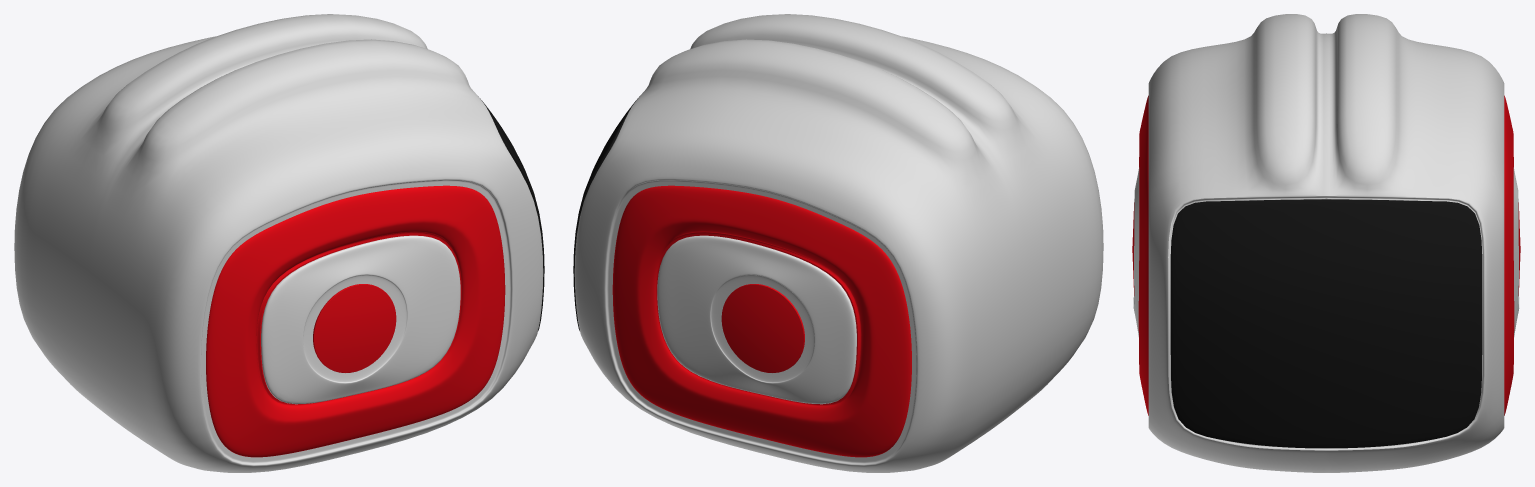
File: lida.glb
3 renders of one model, left to right at view 1: azimuth 30°, elevation 25°; view 2: azimuth 150°, elevation 25°; view 3: azimuth 270°, elevation 25°, orthographic.
Parts seen in each view (by area): view 1: 脑袋, 耳廓, 耳朵, 耳外, 面罩; view 2: 脑袋, 耳廓, 耳朵, 耳外, 面罩; view 3: 脑袋, 面罩, 耳廓, 耳朵.
Part boxes in pixels (<box>): 脑袋: <box>14,14,543,472</box>; 耳廓: <box>206,185,505,457</box>; 耳朵: <box>261,235,460,404</box>; 耳外: <box>313,284,396,372</box>; 面罩: <box>480,98,544,330</box>; 脑袋: <box>574,14,1103,472</box>; 耳廓: <box>612,185,911,457</box>; 耳朵: <box>657,235,856,404</box>; 耳外: <box>721,284,804,372</box>; 面罩: <box>573,98,637,330</box>; 脑袋: <box>1148,14,1504,472</box>; 面罩: <box>1170,199,1482,448</box>; 耳廓: <box>1138,95,1514,415</box>; 耳朵: <box>1133,167,1519,336</box>.
Size of the model in its own units: 246 by 219 by 201.
